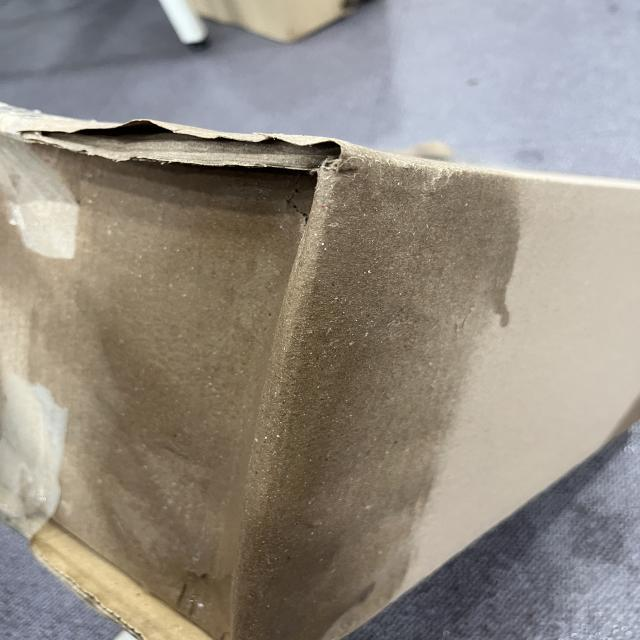wet: (22, 107, 540, 634)
